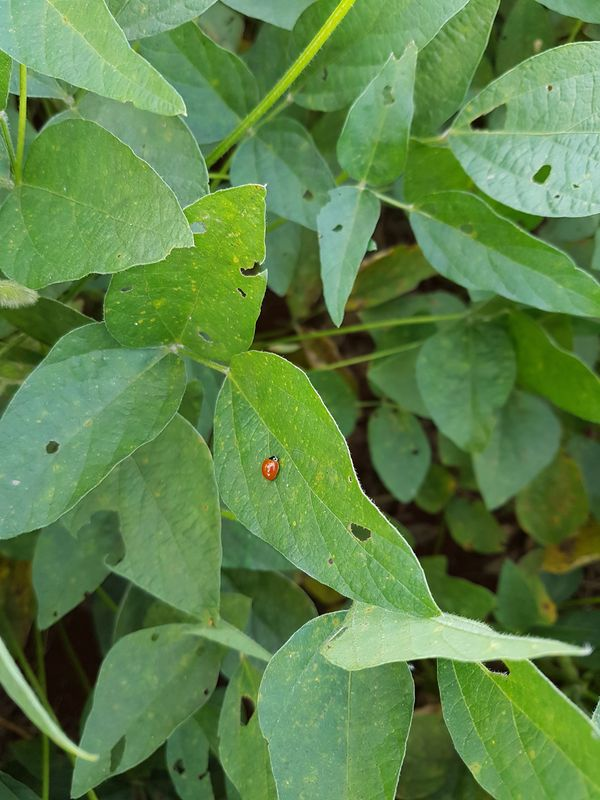Coccinellidae: (255, 450, 289, 485)
